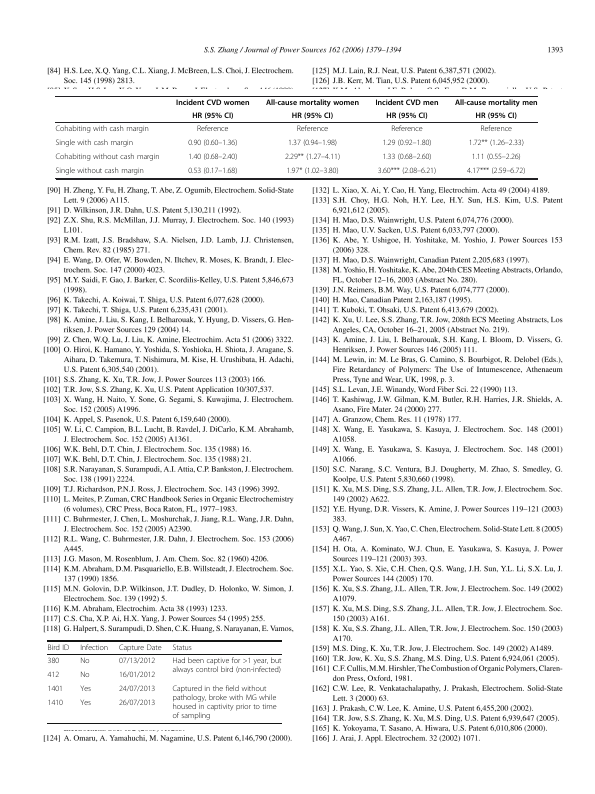borderless: (54, 94, 537, 178), (47, 639, 282, 723)
cell: (171, 684, 277, 721), (171, 656, 282, 675), (54, 152, 160, 162), (54, 124, 150, 134), (55, 166, 145, 176), (265, 98, 360, 107), (54, 138, 134, 148), (454, 98, 538, 107), (175, 98, 250, 107), (377, 166, 437, 176), (466, 166, 526, 176), (374, 98, 439, 107), (468, 138, 525, 148), (284, 152, 341, 162), (285, 166, 339, 176), (187, 138, 238, 148), (287, 138, 338, 148), (381, 138, 432, 148), (187, 152, 238, 162), (381, 152, 432, 162), (471, 152, 522, 162), (187, 166, 238, 176), (191, 111, 234, 121), (291, 111, 334, 121), (385, 111, 428, 121), (475, 111, 518, 121), (118, 643, 162, 652), (118, 656, 156, 666), (118, 670, 156, 680), (118, 684, 156, 694), (118, 698, 156, 708), (390, 124, 424, 134), (479, 124, 513, 134), (196, 124, 229, 134), (296, 124, 329, 134), (79, 643, 109, 652), (47, 643, 70, 652), (171, 643, 193, 652), (47, 684, 64, 694), (47, 698, 64, 708), (47, 656, 60, 666), (47, 670, 60, 680), (79, 684, 92, 694), (79, 698, 92, 708), (79, 656, 90, 666), (79, 670, 90, 680)
